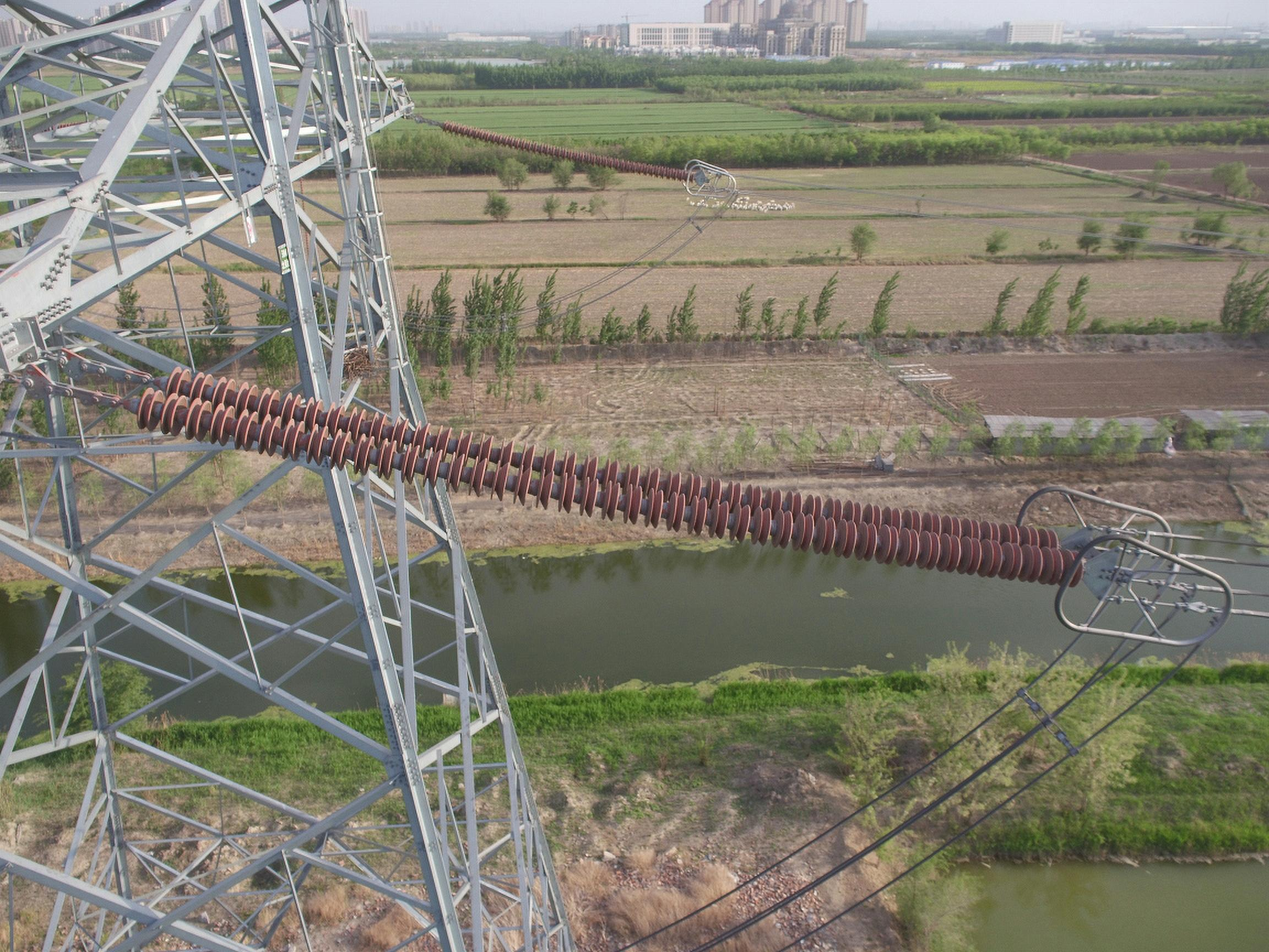insulator: (129, 360, 1087, 593), (440, 117, 696, 185)
